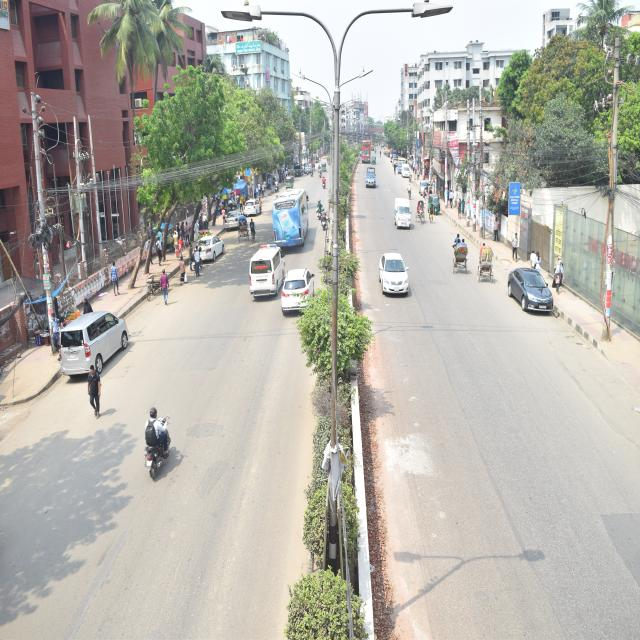bus: (268, 184, 316, 247), (359, 133, 374, 171)
car: (41, 292, 147, 410), (503, 253, 570, 356), (362, 225, 412, 322), (277, 256, 324, 334), (188, 213, 230, 286), (220, 187, 248, 250), (239, 172, 267, 232), (416, 176, 441, 212), (399, 160, 418, 188), (304, 154, 316, 181)
motorbike: (129, 394, 167, 491), (314, 191, 335, 234), (320, 203, 332, 239), (270, 176, 282, 197), (320, 170, 327, 195)
pickup-van: (387, 182, 422, 245), (356, 162, 386, 204), (283, 156, 305, 186)
